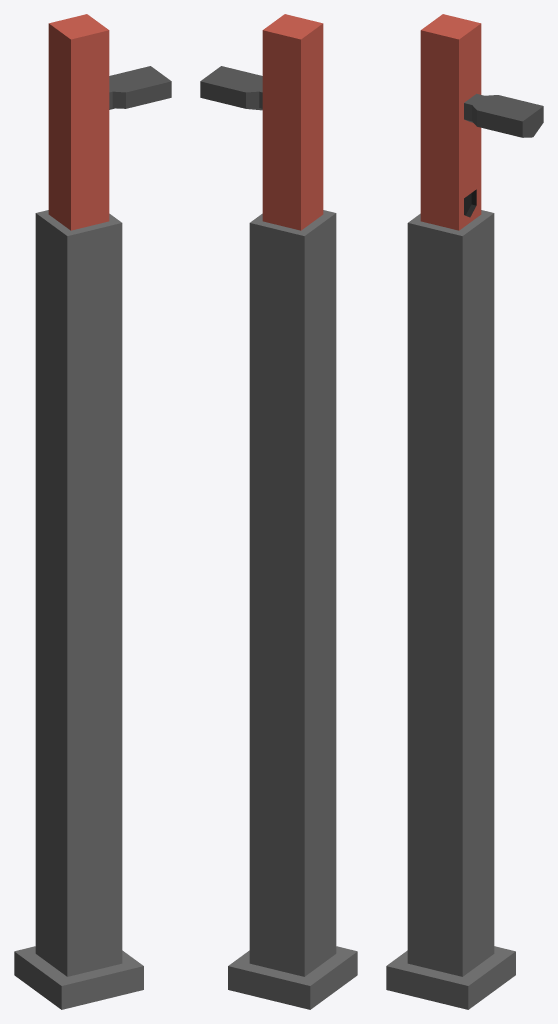
File: High Jump Post.fbx
3 renders of one model, left to right at view 1: azimuth 30°, elevation 25°; view 2: azimuth 150°, elevation 25°; view 3: azimuth 330°, elevation 25°, orthographic.
Parts seen in each view (by area): view 1: High Jump Post, High Jump Extension, High Jump Peg; view 2: High Jump Post, High Jump Extension, High Jump Peg; view 3: High Jump Post, High Jump Extension, High Jump Peg.
Part boxes in pixels (x1,y1,x2,y2): High Jump Post: [14, 210, 143, 1009]; High Jump Extension: [48, 14, 109, 230]; High Jump Peg: [109, 66, 171, 109]; High Jump Post: [228, 210, 357, 1009]; High Jump Extension: [262, 14, 323, 230]; High Jump Peg: [200, 66, 262, 110]; High Jump Post: [386, 210, 515, 1009]; High Jump Extension: [420, 14, 481, 230]; High Jump Peg: [464, 93, 543, 137].
Size of the model in its own units: 135 by 1000 by 90.
